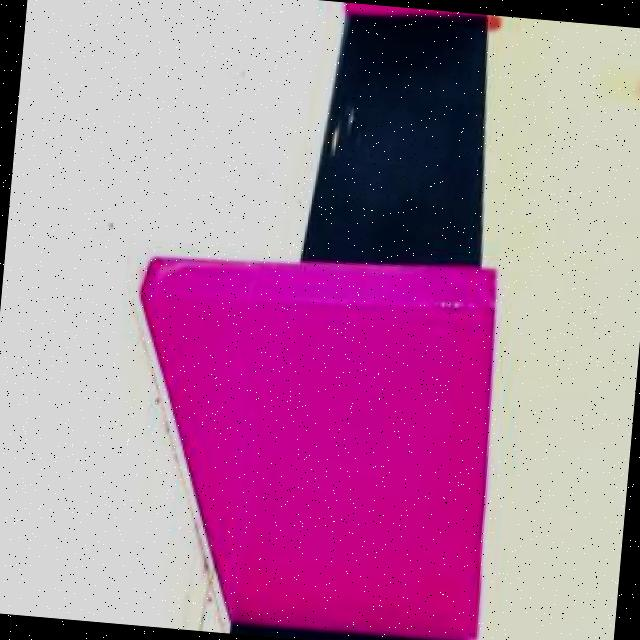xparking: (162, 251, 498, 638)
